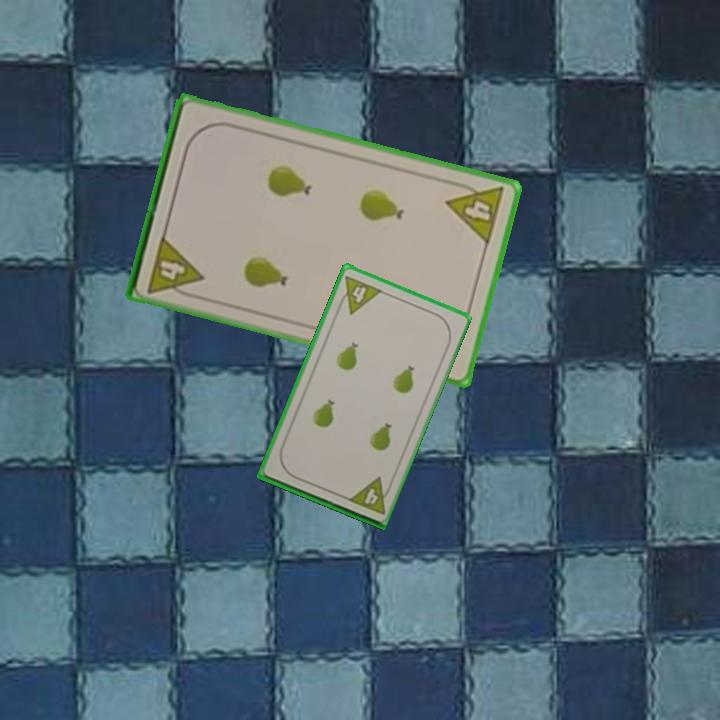4p: (442, 176, 508, 248), (143, 232, 206, 301), (333, 272, 385, 317), (344, 474, 395, 517)
